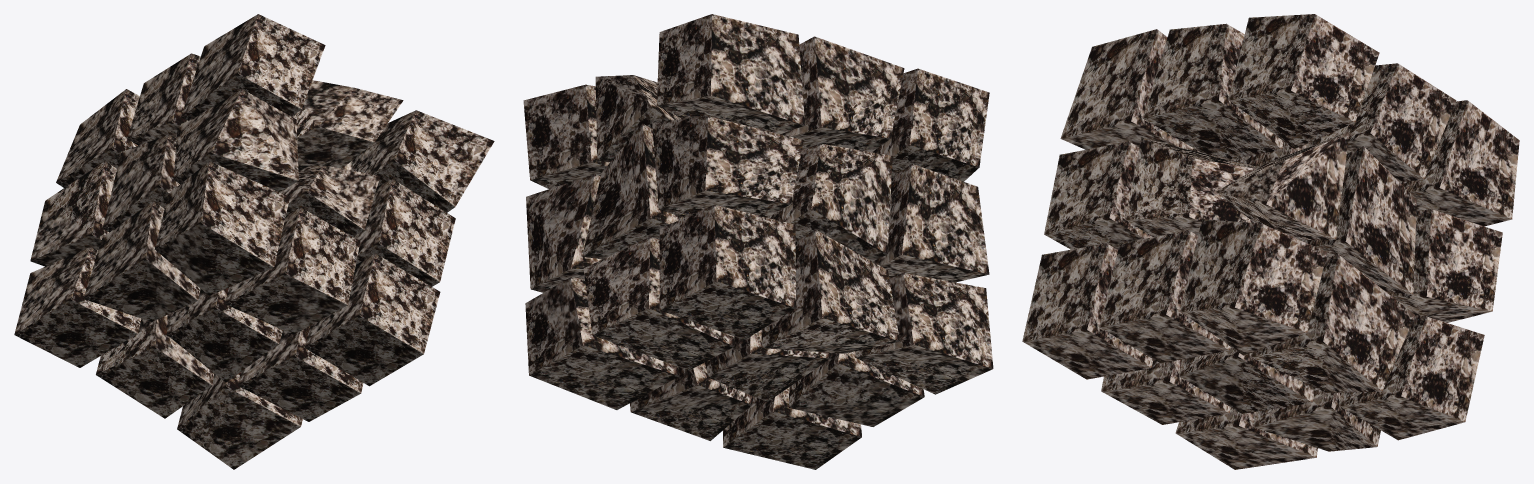
File: meshEdited.dae
The picture shows the model from 3 angles, left to right: view 1: azimuth 30°, elevation 25°; view 2: azimuth 150°, elevation 25°; view 3: azimuth 270°, elevation 25°; orthographic projection. The views are drawn at different scales.
Parts seen in each view (by area): view 1: Cube; view 2: Cube; view 3: Cube.
Boxes of the visible parts, <box> form: Cube: <box>14,14,494,469</box>; Cube: <box>523,14,993,469</box>; Cube: <box>1022,14,1519,469</box>.
Size of the model in its own units: 13.04 by 10.64 by 11.56.
Materials: 1 (1 with a texture image).
